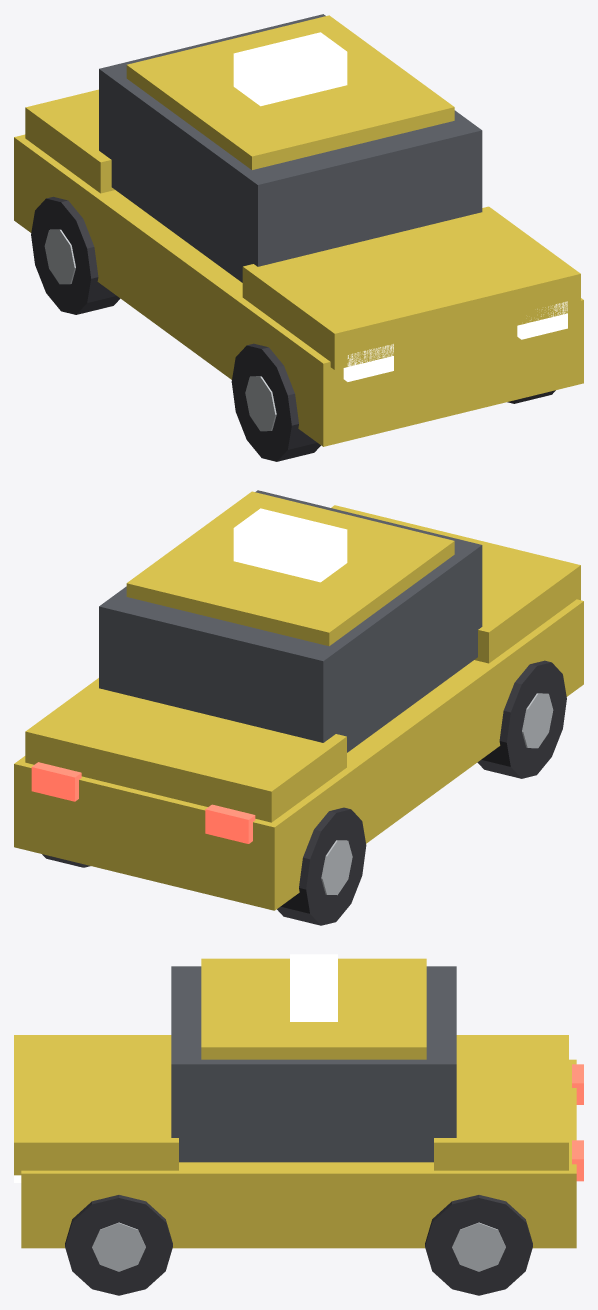
The model's file is taxi.glb.
3 renders of one model, top to bottom at view 1: azimuth 30°, elevation 25°; view 2: azimuth 150°, elevation 25°; view 3: azimuth 270°, elevation 25°, orthographic. The views are drawn at different scales.
Visible parts, largest first — view 1: taxi; view 2: taxi; view 3: taxi.
Boxes of the visible parts, x1,y1,x2,y2 form: taxi: (14, 14, 583, 461); taxi: (14, 490, 583, 925); taxi: (14, 954, 583, 1295).
Bounding box in the file's own units: 1.92 × 1.93 × 3.8.
